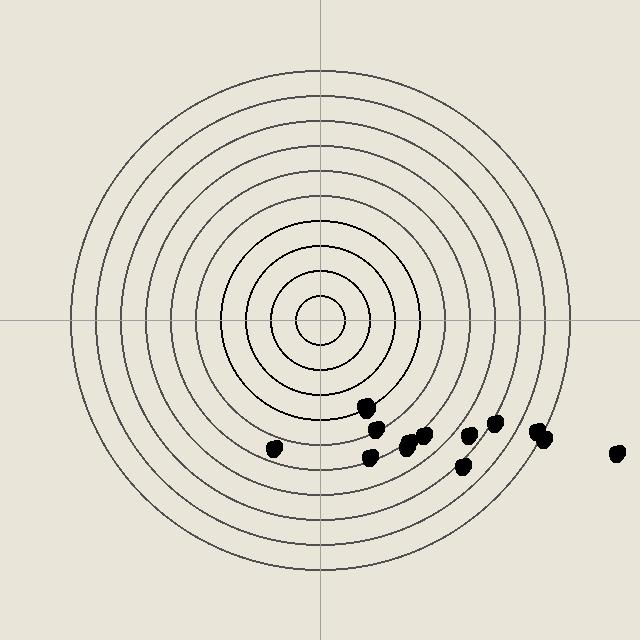horizontal_scatter: (533, 429, 553, 449), (359, 447, 379, 467), (354, 396, 374, 416), (356, 399, 376, 419), (484, 413, 504, 433), (396, 437, 416, 457), (263, 438, 283, 458), (526, 421, 546, 441), (606, 443, 626, 463), (398, 432, 418, 452), (458, 425, 478, 445), (365, 419, 385, 439), (413, 425, 433, 445), (452, 456, 472, 476)
